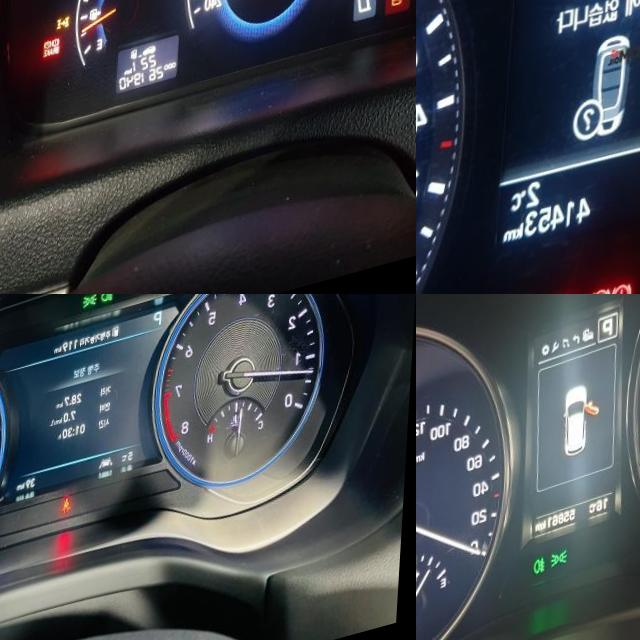Doors: (395, 0, 414, 31)
FrontFogLight: (538, 569, 551, 591)
Low beam: (104, 306, 117, 320)
SideLamp: (555, 563, 574, 584), (86, 308, 101, 325)
